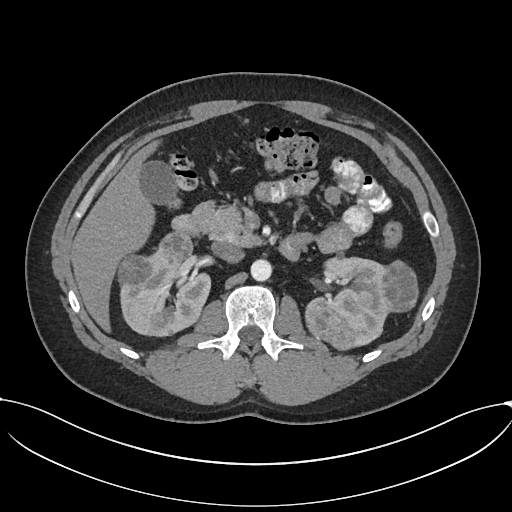Lesion: (374, 252, 420, 313), (112, 252, 155, 289)
